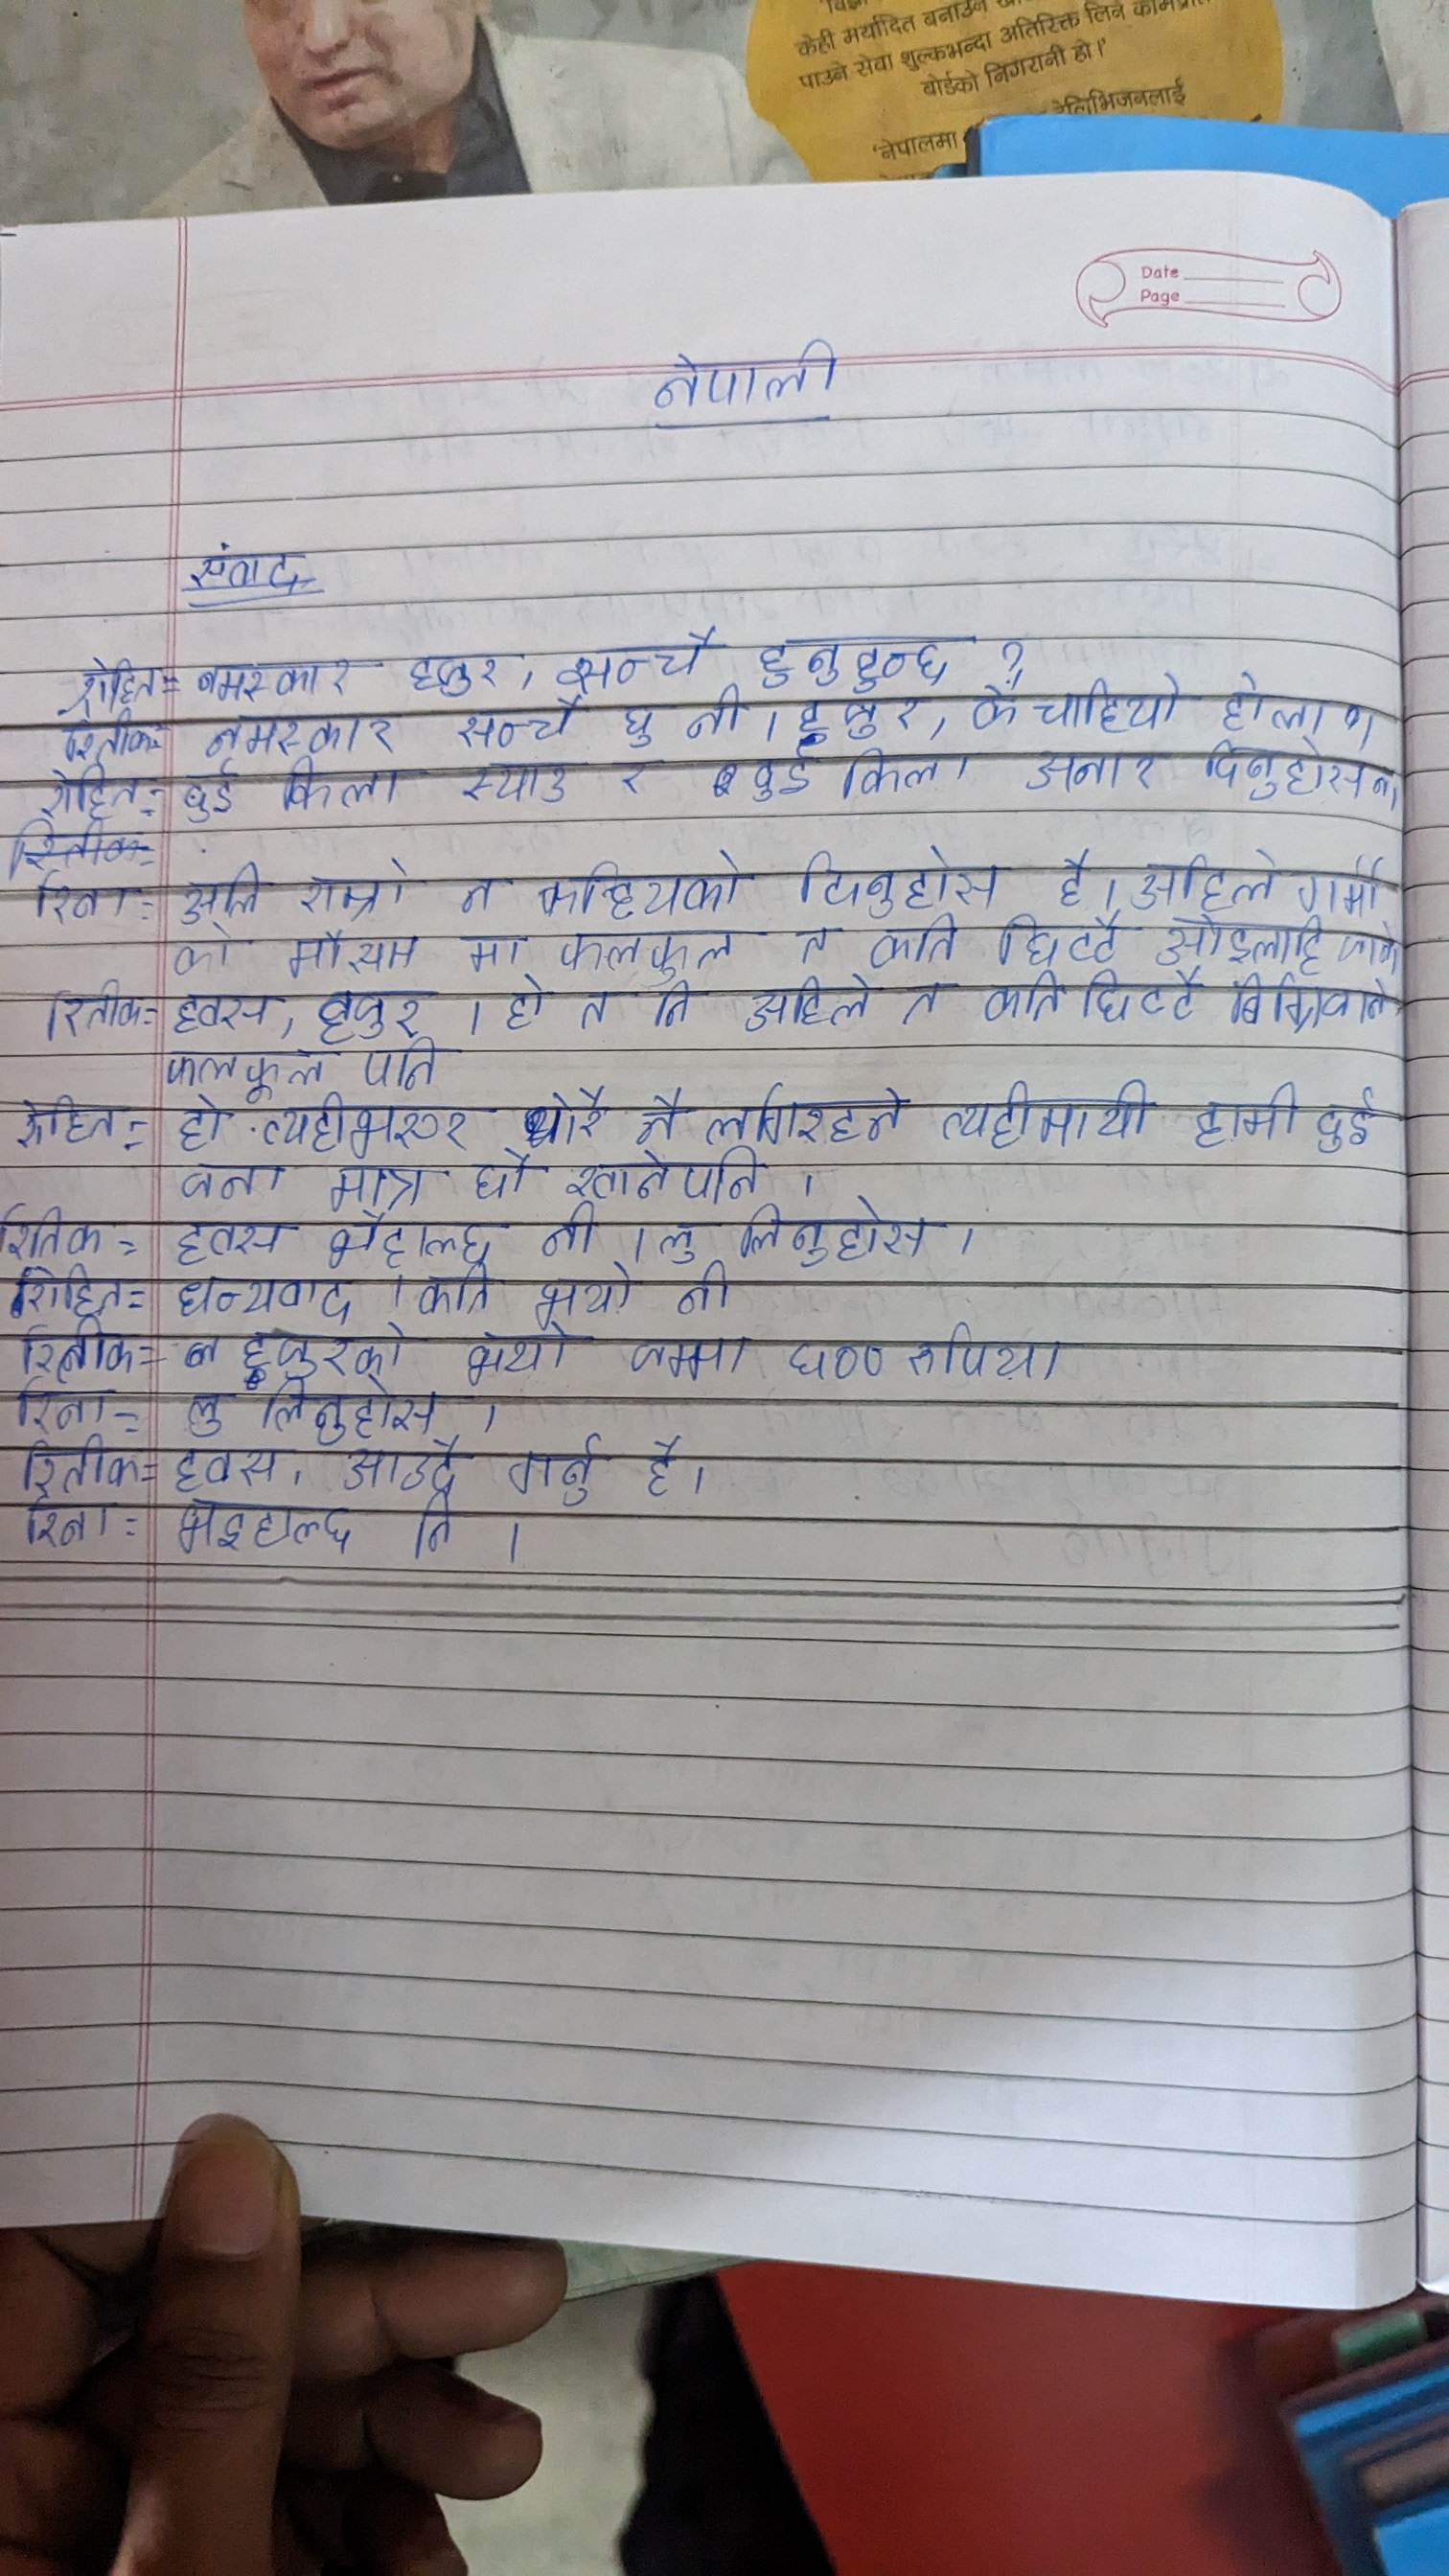text: (925, 1067, 1162, 1150), (640, 338, 862, 414), (533, 849, 747, 924), (796, 842, 1007, 915), (1201, 745, 1408, 817), (1212, 663, 1385, 743), (165, 1491, 373, 1557), (734, 1201, 938, 1267), (260, 1093, 481, 1154), (709, 1079, 913, 1143), (755, 625, 962, 686), (557, 617, 731, 686), (899, 1320, 1081, 1385), (260, 1378, 448, 1440), (1224, 970, 1392, 1039), (232, 1320, 419, 1380), (564, 1148, 766, 1201), (172, 1269, 363, 1323), (1148, 911, 1325, 970), (554, 925, 745, 978), (1031, 671, 1191, 732), (205, 706, 400, 755), (1131, 846, 1277, 911), (189, 646, 363, 701), (322, 1210, 501, 1263), (7, 1086, 127, 1157), (1182, 1074, 1299, 1146), (612, 1327, 752, 1387), (738, 977, 890, 1031), (180, 538, 331, 593), (299, 855, 418, 922), (276, 757, 412, 816), (281, 924, 421, 980), (996, 911, 1131, 970), (311, 980, 435, 1042), (1083, 970, 1207, 1031), (163, 1051, 336, 1095), (1026, 740, 1161, 796), (502, 1431, 607, 1504), (455, 748, 584, 807), (329, 1442, 471, 1493), (839, 743, 975, 796), (531, 1265, 648, 1327), (1290, 846, 1394, 915), (14, 1320, 140, 1376), (458, 697, 593, 748), (165, 1212, 287, 1267), (464, 1323, 580, 1380), (793, 692, 929, 740), (784, 1323, 885, 1387), (39, 763, 152, 819), (16, 1435, 134, 1488), (517, 1079, 605, 1148), (2, 1205, 108, 1261), (16, 1493, 115, 1553), (44, 984, 149, 1040), (21, 1263, 127, 1318), (57, 651, 161, 706), (57, 711, 163, 764), (405, 644, 515, 695), (30, 874, 129, 931), (869, 916, 968, 970), (409, 1263, 504, 1318), (12, 1375, 108, 1430), (173, 1440, 278, 1490), (1315, 1079, 1384, 1154), (326, 1159, 425, 1210), (179, 860, 260, 922), (980, 973, 1063, 1033), (175, 982, 271, 1033), (175, 1161, 290, 1203), (361, 1037, 446, 1093), (741, 748, 817, 810), (182, 757, 246, 826), (1037, 837, 1100, 906), (465, 1145, 554, 1194), (405, 1495, 464, 1566), (665, 1263, 740, 1318), (534, 1201, 603, 1260), (165, 922, 235, 977), (175, 1387, 246, 1442), (1332, 918, 1401, 973), (635, 1424, 685, 1499), (451, 860, 513, 918), (630, 1088, 694, 1145), (170, 1093, 235, 1148), (646, 1210, 709, 1263), (686, 686, 745, 741), (495, 973, 550, 1031), (458, 931, 534, 971), (899, 980, 952, 1033), (570, 987, 625, 1039), (648, 978, 701, 1030), (971, 681, 1023, 732), (619, 692, 660, 752), (786, 920, 851, 957), (619, 761, 663, 800)
